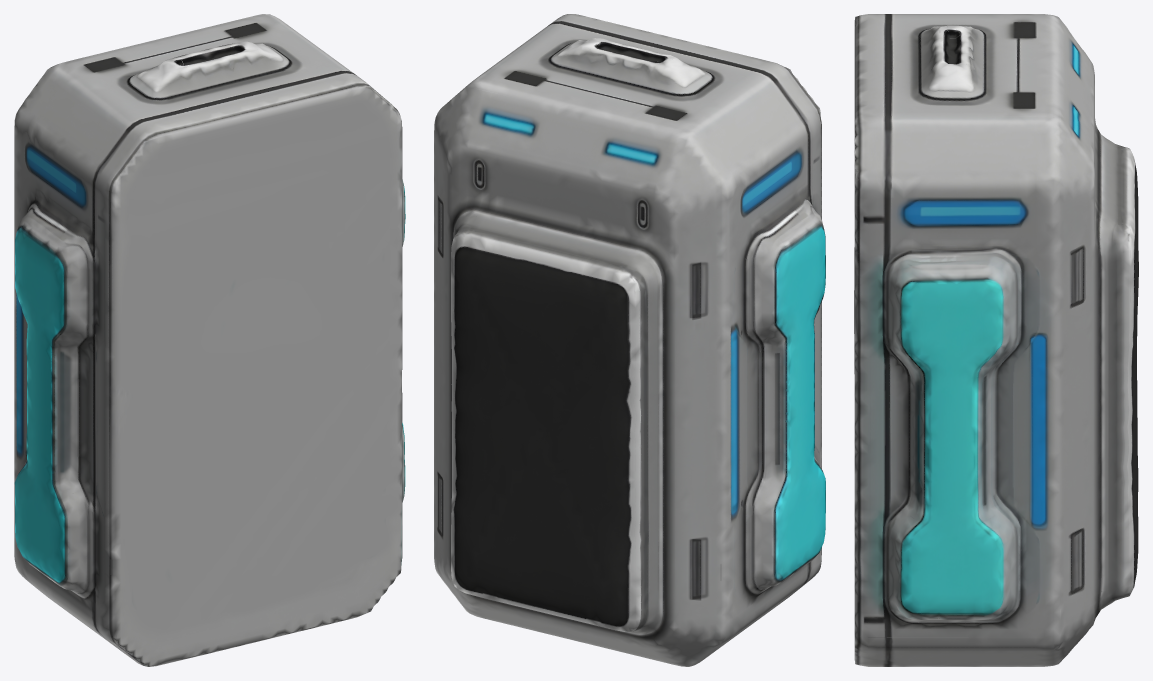
The model's file is BackPack.fbx.
The picture shows the model from 3 angles, left to right: view 1: azimuth 30°, elevation 25°; view 2: azimuth 150°, elevation 25°; view 3: azimuth 270°, elevation 25°; orthographic projection. The views are drawn at different scales.
Visible parts, largest first — view 1: Mesh_0; view 2: Mesh_0; view 3: Mesh_0.
Boxes of the visible parts, x1=… form: Mesh_0: x1=14, y1=14, x2=405, y2=666; Mesh_0: x1=434, y1=14, x2=825, y2=666; Mesh_0: x1=854, y1=14, x2=1138, y2=666.
Size of the model in its own units: 130 by 200 by 90.76.
1 material, 1 textured.
